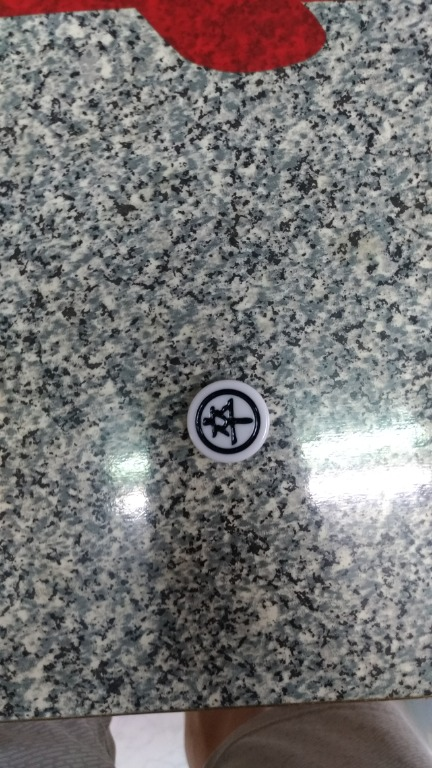b-pawn: (178, 373, 289, 480)
